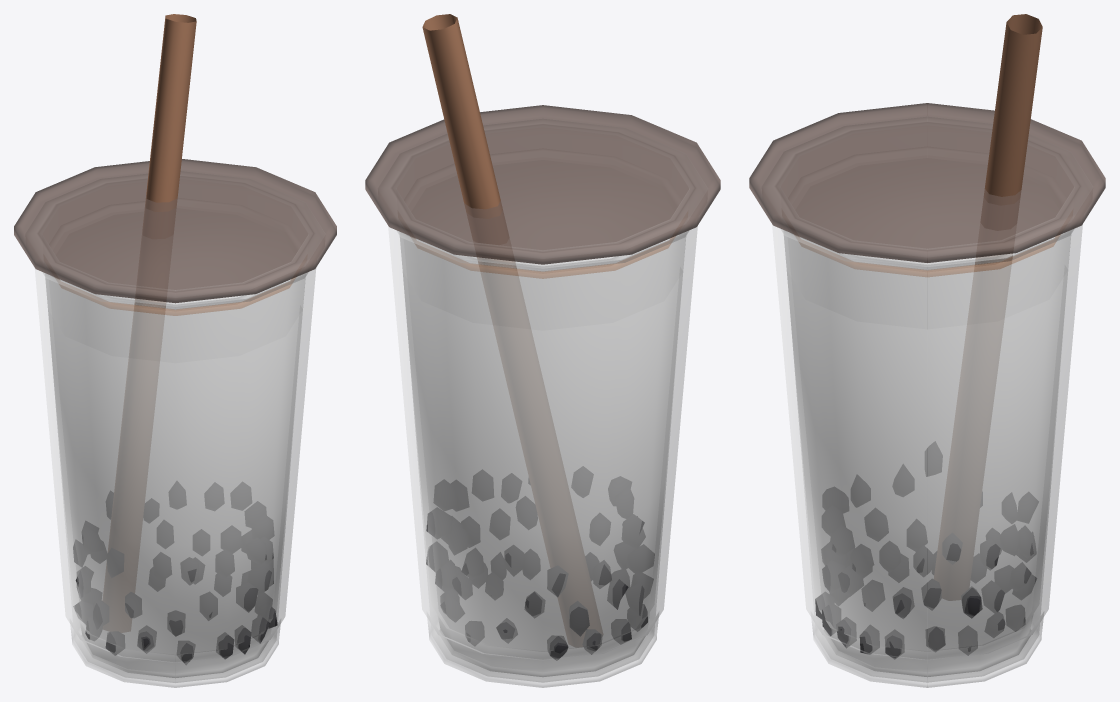
The model's file is milk _tea_boba.glb.
3 views of the same model, side by side, from view 1: azimuth 30°, elevation 25°; view 2: azimuth 150°, elevation 25°; view 3: azimuth 270°, elevation 25° (orthographic). The views are drawn at different scales.
Parts seen in each view (by area): view 1: Cup, drink, top, straw, singular pearls.001; view 2: Cup, drink, top, straw, singular pearls.001; view 3: Cup, drink, top, straw, singular pearls.001.
Part boxes in pixels (box(x1,y1,x2,y2)): Cup: box(27, 171, 323, 687); drink: box(45, 274, 305, 677); top: box(14, 159, 336, 303); straw: box(103, 14, 196, 632); singular pearls.001: box(73, 482, 277, 664); Cup: box(378, 119, 707, 687); drink: box(399, 232, 686, 676); top: box(365, 105, 720, 264); straw: box(422, 14, 602, 646); singular pearls.001: box(426, 467, 654, 659); Cup: box(762, 117, 1092, 687); drink: box(783, 231, 1071, 676); top: box(749, 103, 1105, 262); straw: box(934, 14, 1042, 600); singular pearls.001: box(815, 442, 1037, 658).
Bounding box in the file's own units: 1.03 × 2.06 × 1.03.
